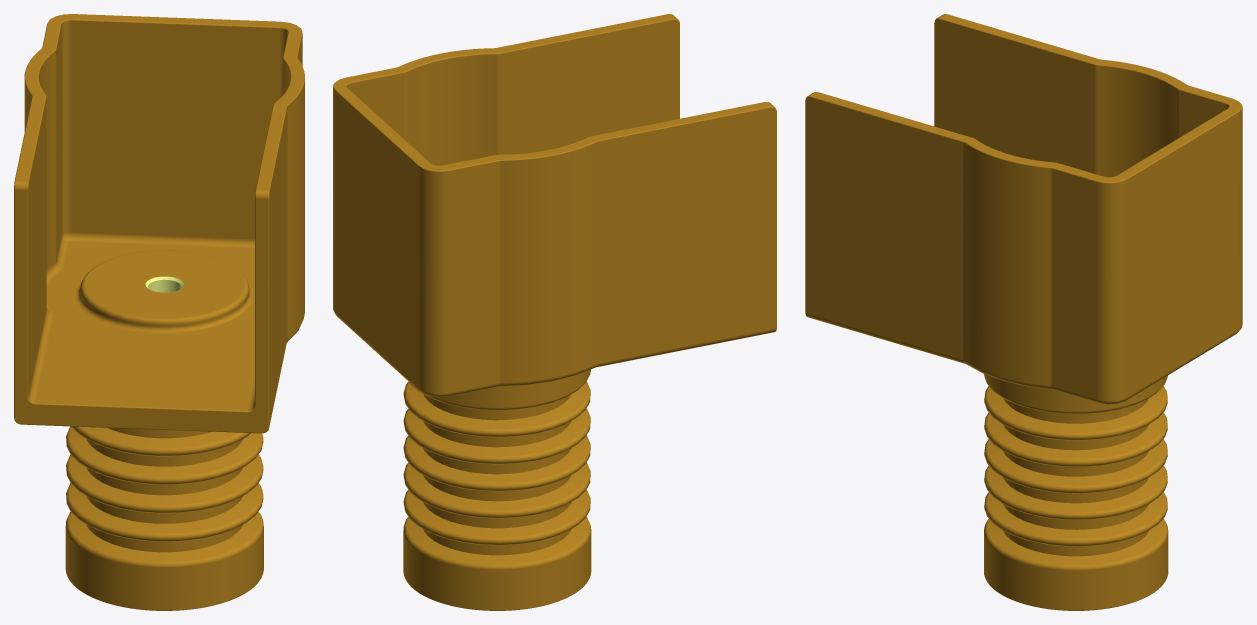
Rendered from 04.2_izolyator-opornyy-io-10-82x130.glb.
3 views of the same model, side by side, from view 1: azimuth 30°, elevation 25°; view 2: azimuth 150°, elevation 25°; view 3: azimuth 270°, elevation 25° (orthographic). The views are drawn at different scales.
Parts seen in each view (by area): view 1: 04.2_izolyator-opornyy-io-10-82x130; view 2: 04.2_izolyator-opornyy-io-10-82x130; view 3: 04.2_izolyator-opornyy-io-10-82x130.
Part boxes in pixels (x1=…): 04.2_izolyator-opornyy-io-10-82x130: x1=14, y1=14, x2=304, y2=610; 04.2_izolyator-opornyy-io-10-82x130: x1=333, y1=14, x2=776, y2=610; 04.2_izolyator-opornyy-io-10-82x130: x1=805, y1=14, x2=1242, y2=610.
Size of the model in its own units: 0.1791 by 0.225 by 0.1943.
